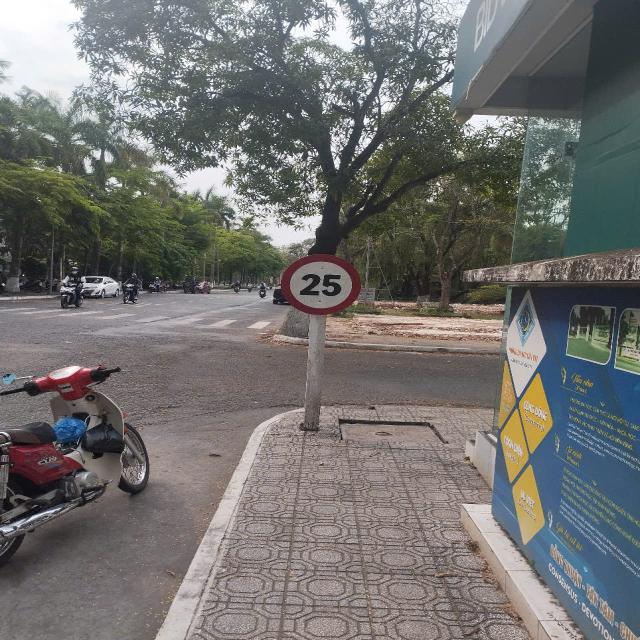Tre_Em: (280, 253, 362, 317)
